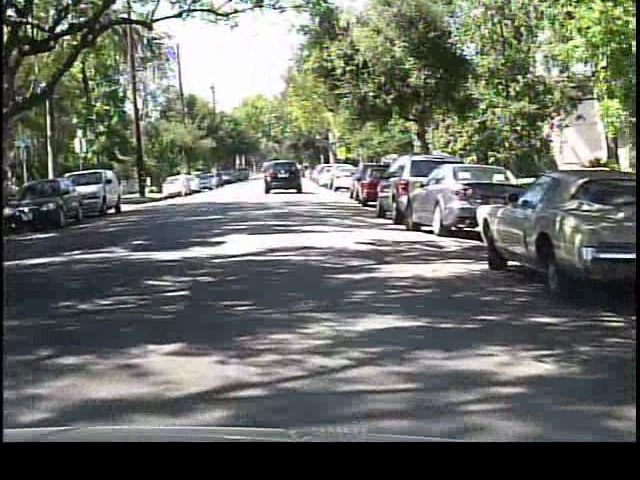person: (177, 166, 193, 201)
